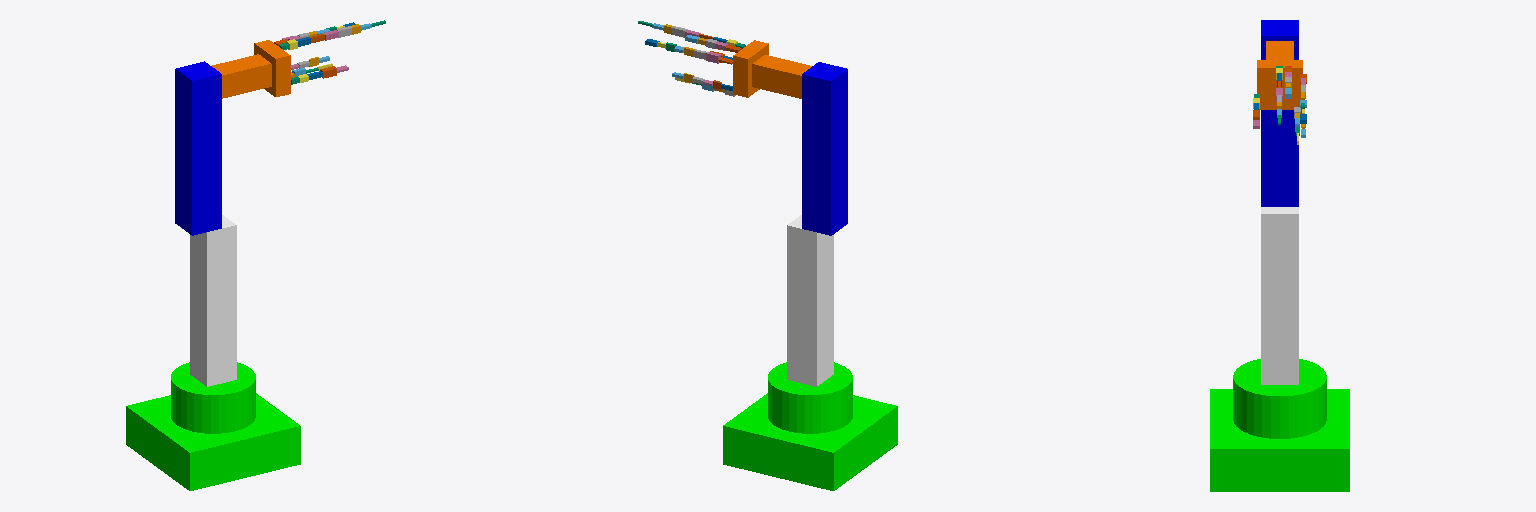
--- Render facts (derived) ---
Views: 3 orthographic renders of the robot side by side, from view 1: azimuth 30°, elevation 25°; view 2: azimuth 150°, elevation 25°; view 3: azimuth 270°, elevation 25°.
Model robot with 43 links and 42 joints (39 revolute, 1 continuous, 2 fixed), rooted at base_link, posed all joints at 0.
Visible links, largest first — view 1: base_link, arm_link, support_link, wrist_link, palm_link; view 2: base_link, arm_link, support_link, wrist_link, palm_link; view 3: base_link, support_link, arm_link, palm_link, wrist_link.
Link boxes in pixels (x1,y1,x2,y2): base_link: (126, 362, 300, 490); arm_link: (175, 61, 221, 235); support_link: (190, 215, 236, 386); wrist_link: (212, 54, 271, 98); palm_link: (254, 40, 290, 96); base_link: (723, 362, 897, 490); arm_link: (802, 62, 847, 235); support_link: (787, 215, 833, 386); wrist_link: (752, 55, 811, 98); palm_link: (733, 40, 768, 97); base_link: (1210, 359, 1349, 491); support_link: (1261, 207, 1298, 384); arm_link: (1261, 20, 1298, 206); palm_link: (1257, 60, 1302, 109); wrist_link: (1266, 41, 1293, 59).
Size in the robot's own frame: 1.54 by 0.75 by 2.55 metres.
Geometry: primitives only (box / cylinder / sphere), no mesh files.

The robot description file, URDF, robot "robot":
<?xml version='1.0' encoding='utf-8'?>
<robot name="robot">
  <link name="base_link">
    <visual>
      <origin xyz="0 0 0.125" rpy="0 0 0" />
      <geometry>
        <box size="0.75 0.75 0.25" />
      </geometry>
      <material name="green" />
    </visual>
    <visual>
      <origin xyz="0 0 0.375" rpy="0 0 0" />
      <geometry>
        <cylinder length="0.25" radius="0.25" />
      </geometry>
      <material name="green">
        <color rgba="0 1 0 1" />
      </material>
    </visual>
    <collision>
      <geometry>
        <box size="0.75 0.75 0.5" />
      </geometry>
    </collision>
    <inertial>
      <mass value="0.5" />
      <inertia ixx="0.034" ixy="0.0" ixz="0.0" iyy="0.034" iyz="0.0" izz="0.034" />
    </inertial>
  </link>
  <link name="support_link">
    <visual>
      <origin xyz="0 0 0.5" rpy="0 0 0" />
      <geometry>
        <box size="0.2 0.2 1" />
      </geometry>
      <material name="white">
        <color rgba="1 1 1 1" />
      </material>
    </visual>
    <collision>
      <geometry>
        <box size="0.2 0.2 1" />
      </geometry>
    </collision>
    <inertial>
      <mass value="0.1" />
      <inertia ixx="0.01" ixy="0.0" ixz="0.0" iyy="0.01" iyz="0.0" izz="0.01" />
    </inertial>
  </link>
  <joint name="support_joint" type="continuous">
    <origin xyz="0 0 0.5" rpy="0 0 0" />
    <parent link="base_link" />
    <child link="support_link" />
    <axis xyz="0 0 1" />
  </joint>
  <link name="arm_link">
    <visual>
      <origin xyz="0 0 0.5" rpy="0 0 0" />
      <geometry>
        <box size="0.2 0.2 1" />
      </geometry>
      <material name="blue">
        <color rgba="0 0 1 1" />
      </material>
    </visual>
    <collision>
      <geometry>
        <box size="0.2 0.2 1" />
      </geometry>
    </collision>
    <inertial>
      <mass value="0.1" />
      <inertia ixx="0.01" ixy="0.0" ixz="0.0" iyy="0.01" iyz="0.0" izz="0.01" />
    </inertial>
  </link>
  <joint name="arm_joint" type="revolute">
    <origin xyz="-0.1 0 1" rpy="0 0 0" />
    <parent link="support_link" />
    <child link="arm_link" />
    <axis xyz="0 1 0" />
    <limit lower="-3.14" upper="3.14" effort="1.0" velocity="1.0" />
  </joint>
  <link name="wrist_link">
    <visual>
      <origin xyz="0 0 0.25" rpy="0 0 0" />
      <geometry>
        <box size="0.15 0.15 0.5" />
      </geometry>
      <material name="orange">
        <color rgba="1 0.5 0 1" />
      </material>
    </visual>
    <collision>
      <geometry>
        <box size="0.15 0.15 0.5" />
      </geometry>
    </collision>
    <inertial>
      <mass value="0.1" />
      <inertia ixx="0.01" ixy="0.0" ixz="0.0" iyy="0.01" iyz="0.0" izz="0.01" />
    </inertial>
  </link>
  <joint name="wrist_joint" type="fixed">
    <origin xyz="0 0 0.9" rpy="0 1.571 0" />
    <parent link="arm_link" />
    <child link="wrist_link" />
  </joint>
  <link name="palm_link">
    <visual>
      <origin xyz="0 0 0.05" rpy="0 0 0" />
      <geometry>
        <box size="0.25 0.25 0.1" />
      </geometry>
      <material name="orange" />
    </visual>
    <collision>
      <geometry>
        <box size="0.25 0.25 0.1" />
      </geometry>
    </collision>
    <inertial>
      <mass value="0.1" />
      <inertia ixx="0.01" ixy="0.0" ixz="0.0" iyy="0.01" iyz="0.0" izz="0.01" />
    </inertial>
  </link>
  <joint name="palm_joint" type="fixed">
    <origin xyz="0 0 0.45" rpy="0 0 0" />
    <parent link="wrist_link" />
    <child link="palm_link" />
  </joint>
  <link name="finger_link_0_0">
    <visual>
      <origin xyz="0 0 0.046" rpy="0 0 0" />
      <geometry>
        <box size="0.011 0.04 0.092" />
      </geometry>
    </visual>
    <collision>
      <geometry>
        <box size="0.011 0.04 0.092" />
      </geometry>
    </collision>
    <inertial>
      <mass value="0.012" />
      <inertia ixx="0.001" iyy="0.001" izz="0.001" ixy="0" ixz="0" iyz="0" />
    </inertial>
  </link>
  <joint name="finger_joint_palm_link_to_finger_link_0_0" type="revolute">
    <origin xyz="-0.081 0.125 0.1" rpy="0 0 0" />
    <parent link="palm_link" />
    <child link="finger_link_0_0" />
    <axis xyz="-1.0 0.0 0.0" />
    <limit lower="-3.142" upper="3.142" effort="10" velocity="10" />
  </joint>
  <link name="finger_link_0_1">
    <visual>
      <origin xyz="0 0 0.0405" rpy="0 0 0" />
      <geometry>
        <box size="0.049 0.03 0.081" />
      </geometry>
    </visual>
    <collision>
      <geometry>
        <box size="0.049 0.03 0.081" />
      </geometry>
    </collision>
    <inertial>
      <mass value="0.036" />
      <inertia ixx="0.001" iyy="0.001" izz="0.001" ixy="0" ixz="0" iyz="0" />
    </inertial>
  </link>
  <joint name="finger_joint_finger_link_0_0_to_finger_link_0_1" type="revolute">
    <origin xyz="0.0 0.0 0.092" rpy="0 0 0" />
    <parent link="finger_link_0_0" />
    <child link="finger_link_0_1" />
    <axis xyz="-1.0 0.0 0.0" />
    <limit lower="-3.142" upper="3.142" effort="10" velocity="10" />
  </joint>
  <link name="finger_link_0_2">
    <visual>
      <origin xyz="0 0 0.0415" rpy="0 0 0" />
      <geometry>
        <box size="0.042 0.024 0.083" />
      </geometry>
    </visual>
    <collision>
      <geometry>
        <box size="0.042 0.024 0.083" />
      </geometry>
    </collision>
    <inertial>
      <mass value="0.025" />
      <inertia ixx="0.001" iyy="0.001" izz="0.001" ixy="0" ixz="0" iyz="0" />
    </inertial>
  </link>
  <joint name="finger_joint_finger_link_0_1_to_finger_link_0_2" type="revolute">
    <origin xyz="0.0 0.0 0.081" rpy="0 0 0" />
    <parent link="finger_link_0_1" />
    <child link="finger_link_0_2" />
    <axis xyz="-1.0 0.0 0.0" />
    <limit lower="-3.142" upper="3.142" effort="10" velocity="10" />
  </joint>
  <link name="finger_link_0_3">
    <visual>
      <origin xyz="0 0 0.036" rpy="0 0 0" />
      <geometry>
        <box size="0.044 0.021 0.072" />
      </geometry>
    </visual>
    <collision>
      <geometry>
        <box size="0.044 0.021 0.072" />
      </geometry>
    </collision>
    <inertial>
      <mass value="0.02" />
      <inertia ixx="0.001" iyy="0.001" izz="0.001" ixy="0" ixz="0" iyz="0" />
    </inertial>
  </link>
  <joint name="finger_joint_finger_link_0_2_to_finger_link_0_3" type="revolute">
    <origin xyz="0.0 0.0 0.083" rpy="0 0 0" />
    <parent link="finger_link_0_2" />
    <child link="finger_link_0_3" />
    <axis xyz="-1.0 0.0 0.0" />
    <limit lower="-3.142" upper="3.142" effort="10" velocity="10" />
  </joint>
  <link name="finger_link_0_4">
    <visual>
      <origin xyz="0 0 0.0305" rpy="0 0 0" />
      <geometry>
        <box size="0.019 0.041 0.061" />
      </geometry>
    </visual>
    <collision>
      <geometry>
        <box size="0.019 0.041 0.061" />
      </geometry>
    </collision>
    <inertial>
      <mass value="0.014" />
      <inertia ixx="0.001" iyy="0.001" izz="0.001" ixy="0" ixz="0" iyz="0" />
    </inertial>
  </link>
  <joint name="finger_joint_finger_link_0_3_to_finger_link_0_4" type="revolute">
    <origin xyz="0.0 0.0 0.072" rpy="0 0 0" />
    <parent link="finger_link_0_3" />
    <child link="finger_link_0_4" />
    <axis xyz="-1.0 0.0 0.0" />
    <limit lower="-3.142" upper="3.142" effort="10" velocity="10" />
  </joint>
  <link name="finger_link_0_5">
    <visual>
      <origin xyz="0 0 0.031" rpy="0 0 0" />
      <geometry>
        <box size="0.043 0.021 0.062" />
      </geometry>
    </visual>
    <collision>
      <geometry>
        <box size="0.043 0.021 0.062" />
      </geometry>
    </collision>
    <inertial>
      <mass value="0.017" />
      <inertia ixx="0.001" iyy="0.001" izz="0.001" ixy="0" ixz="0" iyz="0" />
    </inertial>
  </link>
  <joint name="finger_joint_finger_link_0_4_to_finger_link_0_5" type="revolute">
    <origin xyz="0.0 0.0 0.061" rpy="0 0 0" />
    <parent link="finger_link_0_4" />
    <child link="finger_link_0_5" />
    <axis xyz="-1.0 0.0 0.0" />
    <limit lower="-3.142" upper="3.142" effort="10" velocity="10" />
  </joint>
  <link name="finger_link_0_6">
    <visual>
      <origin xyz="0 0 0.0285" rpy="0 0 0" />
      <geometry>
        <box size="0.026 0.017 0.057" />
      </geometry>
    </visual>
    <collision>
      <geometry>
        <box size="0.026 0.017 0.057" />
      </geometry>
    </collision>
    <inertial>
      <mass value="0.008" />
      <inertia ixx="0.001" iyy="0.001" izz="0.001" ixy="0" ixz="0" iyz="0" />
    </inertial>
  </link>
  <joint name="finger_joint_finger_link_0_5_to_finger_link_0_6" type="revolute">
    <origin xyz="0.0 0.0 0.062" rpy="0 0 0" />
    <parent link="finger_link_0_5" />
    <child link="finger_link_0_6" />
    <axis xyz="-1.0 0.0 0.0" />
    <limit lower="-3.142" upper="3.142" effort="10" velocity="10" />
  </joint>
  <link name="finger_link_0_7">
    <visual>
      <origin xyz="0 0 0.0375" rpy="0 0 0" />
      <geometry>
        <box size="0.024 0.039 0.075" />
      </geometry>
    </visual>
    <collision>
      <geometry>
        <box size="0.024 0.039 0.075" />
      </geometry>
    </collision>
    <inertial>
      <mass value="0.021" />
      <inertia ixx="0.001" iyy="0.001" izz="0.001" ixy="0" ixz="0" iyz="0" />
    </inertial>
  </link>
  <joint name="finger_joint_finger_link_0_6_to_finger_link_0_7" type="revolute">
    <origin xyz="0.0 0.0 0.057" rpy="0 0 0" />
    <parent link="finger_link_0_6" />
    <child link="finger_link_0_7" />
    <axis xyz="-1.0 0.0 0.0" />
    <limit lower="-3.142" upper="3.142" effort="10" velocity="10" />
  </joint>
  <link name="finger_link_1_0">
    <visual>
      <origin xyz="0 0 0.0445" rpy="0 0 0" />
      <geometry>
        <box size="0.019 0.04 0.089" />
      </geometry>
    </visual>
    <collision>
      <geometry>
        <box size="0.019 0.04 0.089" />
      </geometry>
    </collision>
    <inertial>
      <mass value="0.02" />
      <inertia ixx="0.001" iyy="0.001" izz="0.001" ixy="0" ixz="0" iyz="0" />
    </inertial>
  </link>
  <joint name="finger_joint_palm_link_to_finger_link_1_0" type="revolute">
    <origin xyz="-0.125 0.045 0.1" rpy="0 0 0" />
    <parent link="palm_link" />
    <child link="finger_link_1_0" />
    <axis xyz="0.0 -1.0 0.0" />
    <limit lower="-3.142" upper="3.142" effort="10" velocity="10" />
  </joint>
  <link name="finger_link_1_1">
    <visual>
      <origin xyz="0 0 0.035" rpy="0 0 0" />
      <geometry>
        <box size="0.031 0.04 0.07" />
      </geometry>
    </visual>
    <collision>
      <geometry>
        <box size="0.031 0.04 0.07" />
      </geometry>
    </collision>
    <inertial>
      <mass value="0.026" />
      <inertia ixx="0.001" iyy="0.001" izz="0.001" ixy="0" ixz="0" iyz="0" />
    </inertial>
  </link>
  <joint name="finger_joint_finger_link_1_0_to_finger_link_1_1" type="revolute">
    <origin xyz="0.0 0.0 0.089" rpy="0 0 0" />
    <parent link="finger_link_1_0" />
    <child link="finger_link_1_1" />
    <axis xyz="0.0 -1.0 0.0" />
    <limit lower="-3.142" upper="3.142" effort="10" velocity="10" />
  </joint>
  <link name="finger_link_1_2">
    <visual>
      <origin xyz="0 0 0.0305" rpy="0 0 0" />
      <geometry>
        <box size="0.039 0.037 0.061" />
      </geometry>
    </visual>
    <collision>
      <geometry>
        <box size="0.039 0.037 0.061" />
      </geometry>
    </collision>
    <inertial>
      <mass value="0.026" />
      <inertia ixx="0.001" iyy="0.001" izz="0.001" ixy="0" ixz="0" iyz="0" />
    </inertial>
  </link>
  <joint name="finger_joint_finger_link_1_1_to_finger_link_1_2" type="revolute">
    <origin xyz="0.0 0.0 0.07" rpy="0 0 0" />
    <parent link="finger_link_1_1" />
    <child link="finger_link_1_2" />
    <axis xyz="0.0 -1.0 0.0" />
    <limit lower="-3.142" upper="3.142" effort="10" velocity="10" />
  </joint>
  <link name="finger_link_1_3">
    <visual>
      <origin xyz="0 0 0.029" rpy="0 0 0" />
      <geometry>
        <box size="0.029 0.026 0.058" />
      </geometry>
    </visual>
    <collision>
      <geometry>
        <box size="0.029 0.026 0.058" />
      </geometry>
    </collision>
    <inertial>
      <mass value="0.013" />
      <inertia ixx="0.001" iyy="0.001" izz="0.001" ixy="0" ixz="0" iyz="0" />
    </inertial>
  </link>
  <joint name="finger_joint_finger_link_1_2_to_finger_link_1_3" type="revolute">
    <origin xyz="0.0 0.0 0.061" rpy="0 0 0" />
    <parent link="finger_link_1_2" />
    <child link="finger_link_1_3" />
    <axis xyz="0.0 -1.0 0.0" />
    <limit lower="-3.142" upper="3.142" effort="10" velocity="10" />
  </joint>
  <link name="finger_link_1_4">
    <visual>
      <origin xyz="0 0 0.041" rpy="0 0 0" />
      <geometry>
        <box size="0.027 0.036 0.082" />
      </geometry>
    </visual>
    <collision>
      <geometry>
        <box size="0.027 0.036 0.082" />
      </geometry>
    </collision>
    <inertial>
      <mass value="0.024" />
      <inertia ixx="0.001" iyy="0.001" izz="0.001" ixy="0" ixz="0" iyz="0" />
    </inertial>
  </link>
  <joint name="finger_joint_finger_link_1_3_to_finger_link_1_4" type="revolute">
    <origin xyz="0.0 0.0 0.058" rpy="0 0 0" />
    <parent link="finger_link_1_3" />
    <child link="finger_link_1_4" />
    <axis xyz="0.0 -1.0 0.0" />
    <limit lower="-3.142" upper="3.142" effort="10" velocity="10" />
  </joint>
  <link name="finger_link_2_0">
    <visual>
      <origin xyz="0 0 0.0275" rpy="0 0 0" />
      <geometry>
        <box size="0.03 0.025 0.055" />
      </geometry>
    </visual>
    <collision>
      <geometry>
        <box size="0.03 0.025 0.055" />
      </geometry>
    </collision>
    <inertial>
      <mass value="0.012" />
      <inertia ixx="0.001" iyy="0.001" izz="0.001" ixy="0" ixz="0" iyz="0" />
    </inertial>
  </link>
  <joint name="finger_joint_palm_link_to_finger_link_2_0" type="revolute">
    <origin xyz="0.045 -0.125 0.1" rpy="0 0 0" />
    <parent link="palm_link" />
    <child link="finger_link_2_0" />
    <axis xyz="1.0 0.0 0.0" />
    <limit lower="-3.142" upper="3.142" effort="10" velocity="10" />
  </joint>
  <link name="finger_link_2_1">
    <visual>
      <origin xyz="0 0 0.0295" rpy="0 0 0" />
      <geometry>
        <box size="0.032 0.037 0.059" />
      </geometry>
    </visual>
    <collision>
      <geometry>
        <box size="0.032 0.037 0.059" />
      </geometry>
    </collision>
    <inertial>
      <mass value="0.021" />
      <inertia ixx="0.001" iyy="0.001" izz="0.001" ixy="0" ixz="0" iyz="0" />
    </inertial>
  </link>
  <joint name="finger_joint_finger_link_2_0_to_finger_link_2_1" type="revolute">
    <origin xyz="0.0 0.0 0.055" rpy="0 0 0" />
    <parent link="finger_link_2_0" />
    <child link="finger_link_2_1" />
    <axis xyz="1.0 0.0 0.0" />
    <limit lower="-3.142" upper="3.142" effort="10" velocity="10" />
  </joint>
  <link name="finger_link_2_2">
    <visual>
      <origin xyz="0 0 0.048" rpy="0 0 0" />
      <geometry>
        <box size="0.029 0.026 0.096" />
      </geometry>
    </visual>
    <collision>
      <geometry>
        <box size="0.029 0.026 0.096" />
      </geometry>
    </collision>
    <inertial>
      <mass value="0.022" />
      <inertia ixx="0.001" iyy="0.001" izz="0.001" ixy="0" ixz="0" iyz="0" />
    </inertial>
  </link>
  <joint name="finger_joint_finger_link_2_1_to_finger_link_2_2" type="revolute">
    <origin xyz="0.0 0.0 0.059" rpy="0 0 0" />
    <parent link="finger_link_2_1" />
    <child link="finger_link_2_2" />
    <axis xyz="1.0 0.0 0.0" />
    <limit lower="-3.142" upper="3.142" effort="10" velocity="10" />
  </joint>
  <link name="finger_link_2_3">
    <visual>
      <origin xyz="0 0 0.047" rpy="0 0 0" />
      <geometry>
        <box size="0.045 0.039 0.094" />
      </geometry>
    </visual>
    <collision>
      <geometry>
        <box size="0.045 0.039 0.094" />
      </geometry>
    </collision>
    <inertial>
      <mass value="0.049" />
      <inertia ixx="0.001" iyy="0.001" izz="0.001" ixy="0" ixz="0" iyz="0" />
    </inertial>
  </link>
  <joint name="finger_joint_finger_link_2_2_to_finger_link_2_3" type="revolute">
    <origin xyz="0.0 0.0 0.096" rpy="0 0 0" />
    <parent link="finger_link_2_2" />
    <child link="finger_link_2_3" />
    <axis xyz="1.0 0.0 0.0" />
    <limit lower="-3.142" upper="3.142" effort="10" velocity="10" />
  </joint>
  <link name="finger_link_2_4">
    <visual>
      <origin xyz="0 0 0.0405" rpy="0 0 0" />
      <geometry>
        <box size="0.015 0.042 0.081" />
      </geometry>
    </visual>
    <collision>
      <geometry>
        <box size="0.015 0.042 0.081" />
      </geometry>
    </collision>
    <inertial>
      <mass value="0.015" />
      <inertia ixx="0.001" iyy="0.001" izz="0.001" ixy="0" ixz="0" iyz="0" />
    </inertial>
  </link>
  <joint name="finger_joint_finger_link_2_3_to_finger_link_2_4" type="revolute">
    <origin xyz="0.0 0.0 0.094" rpy="0 0 0" />
    <parent link="finger_link_2_3" />
    <child link="finger_link_2_4" />
    <axis xyz="1.0 0.0 0.0" />
    <limit lower="-3.142" upper="3.142" effort="10" velocity="10" />
  </joint>
  <link name="finger_link_3_0">
    <visual>
      <origin xyz="0 0 0.0305" rpy="0 0 0" />
      <geometry>
        <box size="0.043 0.035 0.061" />
      </geometry>
    </visual>
    <collision>
      <geometry>
        <box size="0.043 0.035 0.061" />
      </geometry>
    </collision>
    <inertial>
      <mass value="0.028" />
      <inertia ixx="0.001" iyy="0.001" izz="0.001" ixy="0" ixz="0" iyz="0" />
    </inertial>
  </link>
  <joint name="finger_joint_palm_link_to_finger_link_3_0" type="revolute">
    <origin xyz="0.125 0.094 0.1" rpy="0 0 0" />
    <parent link="palm_link" />
    <child link="finger_link_3_0" />
    <axis xyz="0.0 1.0 0.0" />
    <limit lower="-3.142" upper="3.142" effort="10" velocity="10" />
  </joint>
  <link name="finger_link_3_1">
    <visual>
      <origin xyz="0 0 0.0425" rpy="0 0 0" />
      <geometry>
        <box size="0.024 0.03 0.085" />
      </geometry>
    </visual>
    <collision>
      <geometry>
        <box size="0.024 0.03 0.085" />
      </geometry>
    </collision>
    <inertial>
      <mass value="0.018" />
      <inertia ixx="0.001" iyy="0.001" izz="0.001" ixy="0" ixz="0" iyz="0" />
    </inertial>
  </link>
  <joint name="finger_joint_finger_link_3_0_to_finger_link_3_1" type="revolute">
    <origin xyz="0.0 0.0 0.061" rpy="0 0 0" />
    <parent link="finger_link_3_0" />
    <child link="finger_link_3_1" />
    <axis xyz="0.0 1.0 0.0" />
    <limit lower="-3.142" upper="3.142" effort="10" velocity="10" />
  </joint>
  <link name="finger_link_3_2">
    <visual>
      <origin xyz="0 0 0.0385" rpy="0 0 0" />
      <geometry>
        <box size="0.049 0.026 0.077" />
      </geometry>
    </visual>
    <collision>
      <geometry>
        <box size="0.049 0.026 0.077" />
      </geometry>
    </collision>
    <inertial>
      <mass value="0.029" />
      <inertia ixx="0.001" iyy="0.001" izz="0.001" ixy="0" ixz="0" iyz="0" />
    </inertial>
  </link>
  <joint name="finger_joint_finger_link_3_1_to_finger_link_3_2" type="revolute">
    <origin xyz="0.0 0.0 0.085" rpy="0 0 0" />
    <parent link="finger_link_3_1" />
    <child link="finger_link_3_2" />
    <axis xyz="0.0 1.0 0.0" />
    <limit lower="-3.142" upper="3.142" effort="10" velocity="10" />
  </joint>
  <link name="finger_link_3_3">
    <visual>
      <origin xyz="0 0 0.044" rpy="0 0 0" />
      <geometry>
        <box size="0.011 0.02 0.088" />
      </geometry>
    </visual>
    <collision>
      <geometry>
        <box size="0.011 0.02 0.088" />
      </geometry>
    </collision>
    <inertial>
      <mass value="0.006" />
      <inertia ixx="0.001" iyy="0.001" izz="0.001" ixy="0" ixz="0" iyz="0" />
    </inertial>
  </link>
  <joint name="finger_joint_finger_link_3_2_to_finger_link_3_3" type="revolute">
    <origin xyz="0.0 0.0 0.077" rpy="0 0 0" />
    <parent link="finger_link_3_2" />
    <child link="finger_link_3_3" />
    <axis xyz="0.0 1.0 0.0" />
    <limit lower="-3.142" upper="3.142" effort="10" velocity="10" />
  </joint>
  <link name="finger_link_3_4">
    <visual>
      <origin xyz="0 0 0.0485" rpy="0 0 0" />
      <geometry>
        <box size="0.026 0.011 0.097" />
      </geometry>
    </visual>
    <collision>
      <geometry>
        <box size="0.026 0.011 0.097" />
      </geometry>
    </collision>
    <inertial>
      <mass value="0.008" />
      <inertia ixx="0.001" iyy="0.001" izz="0.001" ixy="0" ixz="0" iyz="0" />
    </inertial>
  </link>
  <joint name="finger_joint_finger_link_3_3_to_finger_link_3_4" type="revolute">
    <origin xyz="0.0 0.0 0.088" rpy="0 0 0" />
    <parent link="finger_link_3_3" />
    <child link="finger_link_3_4" />
    <axis xyz="0.0 1.0 0.0" />
    <limit lower="-3.142" upper="3.142" effort="10" velocity="10" />
  </joint>
  <link name="finger_link_4_0">
    <visual>
      <origin xyz="0 0 0.039" rpy="0 0 0" />
      <geometry>
        <box size="0.025 0.015 0.078" />
      </geometry>
    </visual>
    <collision>
      <geometry>
        <box size="0.025 0.015 0.078" />
      </geometry>
    </collision>
    <inertial>
      <mass value="0.009" />
      <inertia ixx="0.001" iyy="0.001" izz="0.001" ixy="0" ixz="0" iyz="0" />
    </inertial>
  </link>
  <joint name="finger_joint_palm_link_to_finger_link_4_0" type="revolute">
    <origin xyz="0.09 0.125 0.1" rpy="0 0 0" />
    <parent link="palm_link" />
    <child link="finger_link_4_0" />
    <axis xyz="-1.0 0.0 0.0" />
    <limit lower="-3.142" upper="3.142" effort="10" velocity="10" />
  </joint>
  <link name="finger_link_4_1">
    <visual>
      <origin xyz="0 0 0.028" rpy="0 0 0" />
      <geometry>
        <box size="0.045 0.017 0.056" />
      </geometry>
    </visual>
    <collision>
      <geometry>
        <box size="0.045 0.017 0.056" />
      </geometry>
    </collision>
    <inertial>
      <mass value="0.013" />
      <inertia ixx="0.001" iyy="0.001" izz="0.001" ixy="0" ixz="0" iyz="0" />
    </inertial>
  </link>
  <joint name="finger_joint_finger_link_4_0_to_finger_link_4_1" type="revolute">
    <origin xyz="0.0 0.0 0.078" rpy="0 0 0" />
    <parent link="finger_link_4_0" />
    <child link="finger_link_4_1" />
    <axis xyz="-1.0 0.0 0.0" />
    <limit lower="-3.142" upper="3.142" effort="10" velocity="10" />
  </joint>
  <link name="finger_link_4_2">
    <visual>
      <origin xyz="0 0 0.0315" rpy="0 0 0" />
      <geometry>
        <box size="0.013 0.037 0.063" />
      </geometry>
    </visual>
    <collision>
      <geometry>
        <box size="0.013 0.037 0.063" />
      </geometry>
    </collision>
    <inertial>
      <mass value="0.009" />
      <inertia ixx="0.001" iyy="0.001" izz="0.001" ixy="0" ixz="0" iyz="0" />
    </inertial>
  </link>
  <joint name="finger_joint_finger_link_4_1_to_finger_link_4_2" type="revolute">
    <origin xyz="0.0 0.0 0.056" rpy="0 0 0" />
    <parent link="finger_link_4_1" />
    <child link="finger_link_4_2" />
    <axis xyz="-1.0 0.0 0.0" />
    <limit lower="-3.142" upper="3.142" effort="10" velocity="10" />
  </joint>
  <link name="finger_link_4_3">
    <visual>
      <origin xyz="0 0 0.0365" rpy="0 0 0" />
      <geometry>
        <box size="0.024 0.031 0.073" />
      </geometry>
    </visual>
    <collision>
      <geometry>
        <box size="0.024 0.031 0.073" />
      </geometry>
    </collision>
    <inertial>
      <mass value="0.016" />
      <inertia ixx="0.001" iyy="0.001" izz="0.001" ixy="0" ixz="0" iyz="0" />
    </inertial>
  </link>
  <joint name="finger_joint_finger_link_4_2_to_finger_link_4_3" type="revolute">
    <origin xyz="0.0 0.0 0.063" rpy="0 0 0" />
    <parent link="finger_link_4_2" />
    <child link="finger_link_4_3" />
    <axis xyz="-1.0 0.0 0.0" />
    <limit lower="-3.142" upper="3.142" effort="10" velocity="10" />
  </joint>
  <link name="finger_link_4_4">
    <visual>
      <origin xyz="0 0 0.031" rpy="0 0 0" />
      <geometry>
        <box size="0.049 0.011 0.062" />
      </geometry>
    </visual>
    <collision>
      <geometry>
        <box size="0.049 0.011 0.062" />
      </geometry>
    </collision>
    <inertial>
      <mass value="0.01" />
      <inertia ixx="0.001" iyy="0.001" izz="0.001" ixy="0" ixz="0" iyz="0" />
    </inertial>
  </link>
  <joint name="finger_joint_finger_link_4_3_to_finger_link_4_4" type="revolute">
    <origin xyz="0.0 0.0 0.073" rpy="0 0 0" />
    <parent link="finger_link_4_3" />
    <child link="finger_link_4_4" />
    <axis xyz="-1.0 0.0 0.0" />
    <limit lower="-3.142" upper="3.142" effort="10" velocity="10" />
  </joint>
  <link name="finger_link_4_5">
    <visual>
      <origin xyz="0 0 0.0365" rpy="0 0 0" />
      <geometry>
        <box size="0.019 0.027 0.073" />
      </geometry>
    </visual>
    <collision>
      <geometry>
        <box size="0.019 0.027 0.073" />
      </geometry>
    </collision>
    <inertial>
      <mass value="0.011" />
      <inertia ixx="0.001" iyy="0.001" izz="0.001" ixy="0" ixz="0" iyz="0" />
    </inertial>
  </link>
  <joint name="finger_joint_finger_link_4_4_to_finger_link_4_5" type="revolute">
    <origin xyz="0.0 0.0 0.062" rpy="0 0 0" />
    <parent link="finger_link_4_4" />
    <child link="finger_link_4_5" />
    <axis xyz="-1.0 0.0 0.0" />
    <limit lower="-3.142" upper="3.142" effort="10" velocity="10" />
  </joint>
  <link name="finger_link_5_0">
    <visual>
      <origin xyz="0 0 0.026" rpy="0 0 0" />
      <geometry>
        <box size="0.026 0.036 0.052" />
      </geometry>
    </visual>
    <collision>
      <geometry>
        <box size="0.026 0.036 0.052" />
      </geometry>
    </collision>
    <inertial>
      <mass value="0.015" />
      <inertia ixx="0.001" iyy="0.001" izz="0.001" ixy="0" ixz="0" iyz="0" />
    </inertial>
  </link>
  <joint name="finger_joint_palm_link_to_finger_link_5_0" type="revolute">
    <origin xyz="-0.125 -0.003 0.1" rpy="0 0 0" />
    <parent link="palm_link" />
    <child link="finger_link_5_0" />
    <axis xyz="0.0 -1.0 0.0" />
    <limit lower="-3.142" upper="3.142" effort="10" velocity="10" />
  </joint>
  <link name="finger_link_5_1">
    <visual>
      <origin xyz="0 0 0.028" rpy="0 0 0" />
      <geometry>
        <box size="0.044 0.041 0.056" />
      </geometry>
    </visual>
    <collision>
      <geometry>
        <box size="0.044 0.041 0.056" />
      </geometry>
    </collision>
    <inertial>
      <mass value="0.03" />
      <inertia ixx="0.001" iyy="0.001" izz="0.001" ixy="0" ixz="0" iyz="0" />
    </inertial>
  </link>
  <joint name="finger_joint_finger_link_5_0_to_finger_link_5_1" type="revolute">
    <origin xyz="0.0 0.0 0.052" rpy="0 0 0" />
    <parent link="finger_link_5_0" />
    <child link="finger_link_5_1" />
    <axis xyz="0.0 -1.0 0.0" />
    <limit lower="-3.142" upper="3.142" effort="10" velocity="10" />
  </joint>
  <link name="finger_link_5_2">
    <visual>
      <origin xyz="0 0 0.048" rpy="0 0 0" />
      <geometry>
        <box size="0.037 0.024 0.096" />
      </geometry>
    </visual>
    <collision>
      <geometry>
        <box size="0.037 0.024 0.096" />
      </geometry>
    </collision>
    <inertial>
      <mass value="0.026" />
      <inertia ixx="0.001" iyy="0.001" izz="0.001" ixy="0" ixz="0" iyz="0" />
    </inertial>
  </link>
  <joint name="finger_joint_finger_link_5_1_to_finger_link_5_2" type="revolute">
    <origin xyz="0.0 0.0 0.056" rpy="0 0 0" />
    <parent link="finger_link_5_1" />
    <child link="finger_link_5_2" />
    <axis xyz="0.0 -1.0 0.0" />
    <limit lower="-3.142" upper="3.142" effort="10" velocity="10" />
  </joint>
  <link name="finger_link_5_3">
    <visual>
      <origin xyz="0 0 0.0475" rpy="0 0 0" />
      <geometry>
        <box size="0.037 0.013 0.095" />
      </geometry>
    </visual>
    <collision>
      <geometry>
        <box size="0.037 0.013 0.095" />
      </geometry>
    </collision>
    <inertial>
      <mass value="0.014" />
      <inertia ixx="0.001" iyy="0.001" izz="0.001" ixy="0" ixz="0" iyz="0" />
    </inertial>
  </link>
  <joint name="finger_joint_finger_link_5_2_to_finger_link_5_3" type="revolute">
    <origin xyz="0.0 0.0 0.096" rpy="0 0 0" />
    <parent link="finger_link_5_2" />
    <child link="finger_link_5_3" />
    <axis xyz="0.0 -1.0 0.0" />
    <limit lower="-3.142" upper="3.142" effort="10" velocity="10" />
  </joint>
  <link name="finger_link_5_4">
    <visual>
      <origin xyz="0 0 0.045" rpy="0 0 0" />
      <geometry>
        <box size="0.036 0.034 0.09" />
      </geometry>
    </visual>
    <collision>
      <geometry>
        <box size="0.036 0.034 0.09" />
      </geometry>
    </collision>
    <inertial>
      <mass value="0.033" />
      <inertia ixx="0.001" iyy="0.001" izz="0.001" ixy="0" ixz="0" iyz="0" />
    </inertial>
  </link>
  <joint name="finger_joint_finger_link_5_3_to_finger_link_5_4" type="revolute">
    <origin xyz="0.0 0.0 0.095" rpy="0 0 0" />
    <parent link="finger_link_5_3" />
    <child link="finger_link_5_4" />
    <axis xyz="0.0 -1.0 0.0" />
    <limit lower="-3.142" upper="3.142" effort="10" velocity="10" />
  </joint>
  <link name="finger_link_5_5">
    <visual>
      <origin xyz="0 0 0.0455" rpy="0 0 0" />
      <geometry>
        <box size="0.045 0.029 0.091" />
      </geometry>
    </visual>
    <collision>
      <geometry>
        <box size="0.045 0.029 0.091" />
      </geometry>
    </collision>
    <inertial>
      <mass value="0.036" />
      <inertia ixx="0.001" iyy="0.001" izz="0.001" ixy="0" ixz="0" iyz="0" />
    </inertial>
  </link>
  <joint name="finger_joint_finger_link_5_4_to_finger_link_5_5" type="revolute">
    <origin xyz="0.0 0.0 0.09" rpy="0 0 0" />
    <parent link="finger_link_5_4" />
    <child link="finger_link_5_5" />
    <axis xyz="0.0 -1.0 0.0" />
    <limit lower="-3.142" upper="3.142" effort="10" velocity="10" />
  </joint>
  <link name="finger_link_5_6">
    <visual>
      <origin xyz="0 0 0.0275" rpy="0 0 0" />
      <geometry>
        <box size="0.045 0.029 0.055" />
      </geometry>
    </visual>
    <collision>
      <geometry>
        <box size="0.045 0.029 0.055" />
      </geometry>
    </collision>
    <inertial>
      <mass value="0.022" />
      <inertia ixx="0.001" iyy="0.001" izz="0.001" ixy="0" ixz="0" iyz="0" />
    </inertial>
  </link>
  <joint name="finger_joint_finger_link_5_5_to_finger_link_5_6" type="revolute">
    <origin xyz="0.0 0.0 0.091" rpy="0 0 0" />
    <parent link="finger_link_5_5" />
    <child link="finger_link_5_6" />
    <axis xyz="0.0 -1.0 0.0" />
    <limit lower="-3.142" upper="3.142" effort="10" velocity="10" />
  </joint>
  <link name="finger_link_5_7">
    <visual>
      <origin xyz="0 0 0.039" rpy="0 0 0" />
      <geometry>
        <box size="0.019 0.029 0.078" />
      </geometry>
    </visual>
    <collision>
      <geometry>
        <box size="0.019 0.029 0.078" />
      </geometry>
    </collision>
    <inertial>
      <mass value="0.013" />
      <inertia ixx="0.001" iyy="0.001" izz="0.001" ixy="0" ixz="0" iyz="0" />
    </inertial>
  </link>
  <joint name="finger_joint_finger_link_5_6_to_finger_link_5_7" type="revolute">
    <origin xyz="0.0 0.0 0.055" rpy="0 0 0" />
    <parent link="finger_link_5_6" />
    <child link="finger_link_5_7" />
    <axis xyz="0.0 -1.0 0.0" />
    <limit lower="-3.142" upper="3.142" effort="10" velocity="10" />
  </joint>
  <link name="finger_link_5_8">
    <visual>
      <origin xyz="0 0 0.049" rpy="0 0 0" />
      <geometry>
        <box size="0.013 0.019 0.098" />
      </geometry>
    </visual>
    <collision>
      <geometry>
        <box size="0.013 0.019 0.098" />
      </geometry>
    </collision>
    <inertial>
      <mass value="0.007" />
      <inertia ixx="0.001" iyy="0.001" izz="0.001" ixy="0" ixz="0" iyz="0" />
    </inertial>
  </link>
  <joint name="finger_joint_finger_link_5_7_to_finger_link_5_8" type="revolute">
    <origin xyz="0.0 0.0 0.078" rpy="0 0 0" />
    <parent link="finger_link_5_7" />
    <child link="finger_link_5_8" />
    <axis xyz="0.0 -1.0 0.0" />
    <limit lower="-3.142" upper="3.142" effort="10" velocity="10" />
  </joint>
</robot>
